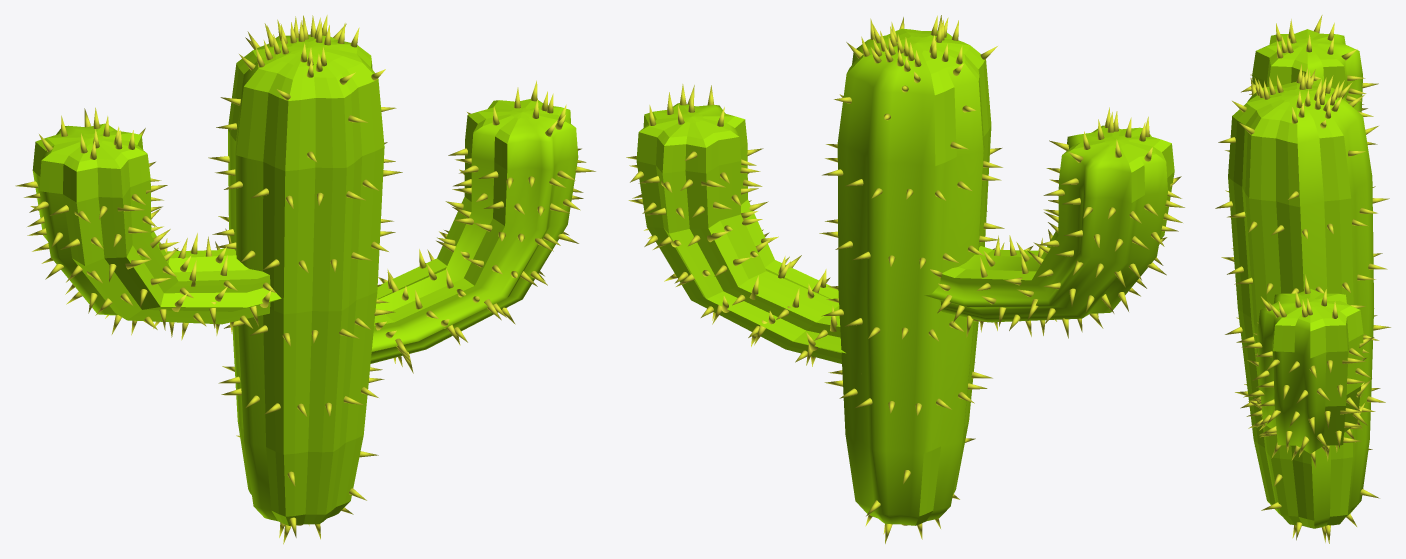
File: Cactus.fbx
3 views of the same model, side by side, from view 1: azimuth 30°, elevation 25°; view 2: azimuth 150°, elevation 25°; view 3: azimuth 270°, elevation 25° (orthographic). The views are drawn at different scales.
Parts seen in each view (by area): view 1: Círculo; view 2: Círculo; view 3: Círculo.
Part boxes in pixels (left/top/right/bottom): Círculo: left=32, top=34, right=578, bottom=525; Círculo: left=636, top=28, right=1174, bottom=525; Círculo: left=1228, top=29, right=1374, bottom=528.
Bounding box in the file's own units: 896 × 780 × 275.
